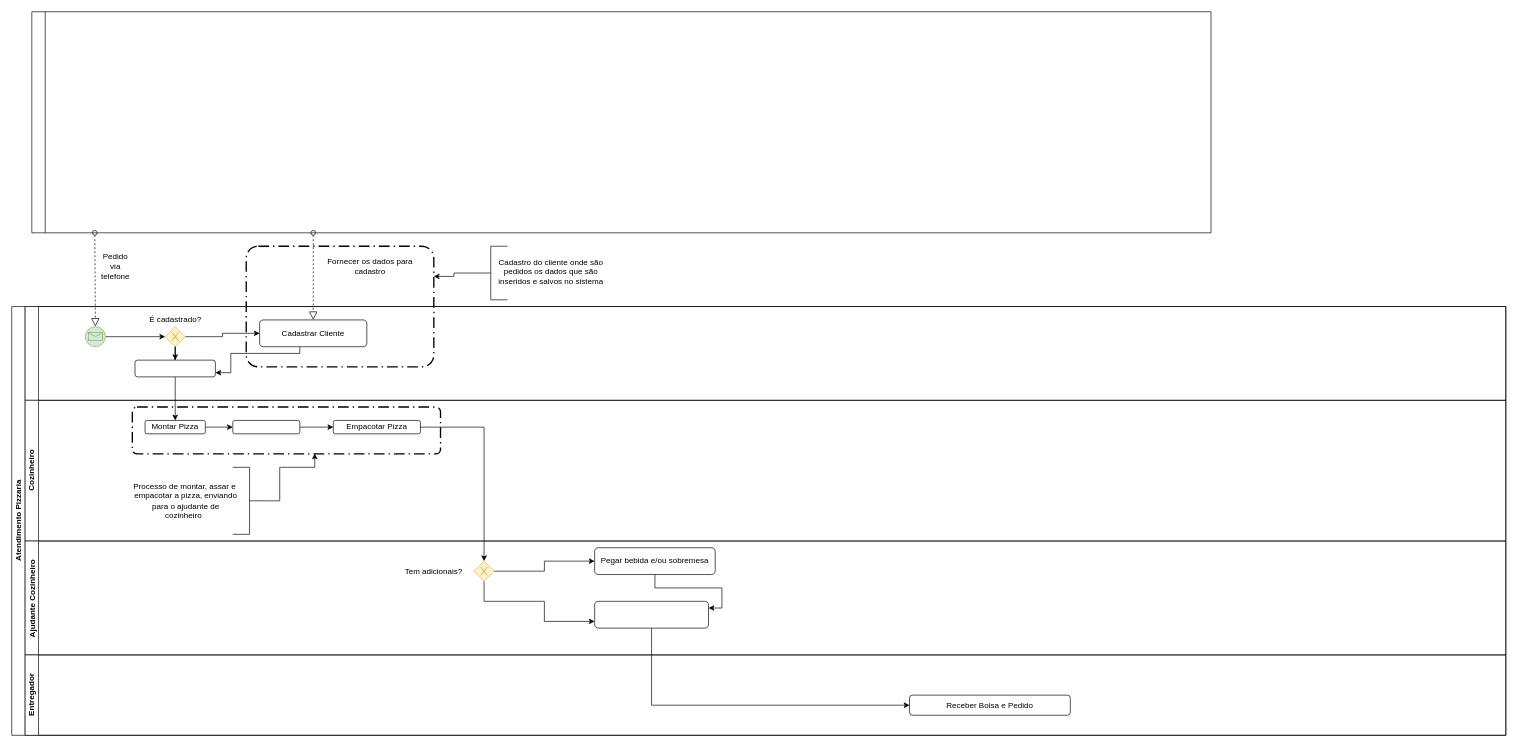
Some shapes in this 1518 by 747 pixel diagram are drawn without their labels. The shapes that lost their labels are listed below. From the top down, each one's box as (x1, y1, x2, y2) in pixels, then its label:
(31, 11, 1211, 233): Cliente
(134, 359, 215, 377): Cadastra pedido
(24, 306, 1506, 400): Atendente
(232, 420, 300, 434): Assar Pizza
(594, 601, 709, 628): Colocar na bolsa
